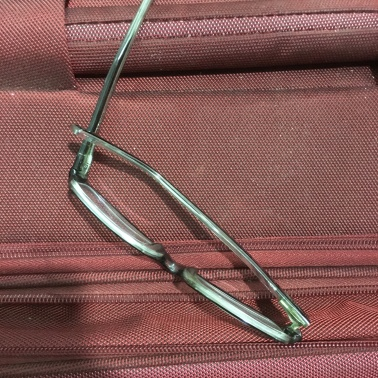glasses: (38, 119, 323, 354)
